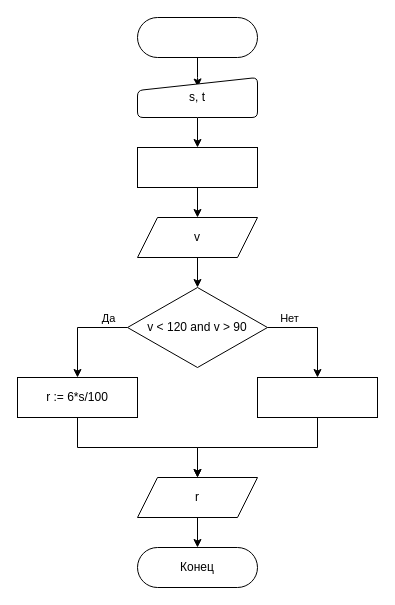
The diagram is 395 pixels wide and 605 high, and some of its shapes have lost their labels. The shapes that lost their labels are listed below. From the top down, each one's centre as x and y in pixels, then its label:
At point (197, 37): "Начало".
At point (197, 167): "v := s/t".
At point (317, 397): "r := 8*s/100".
